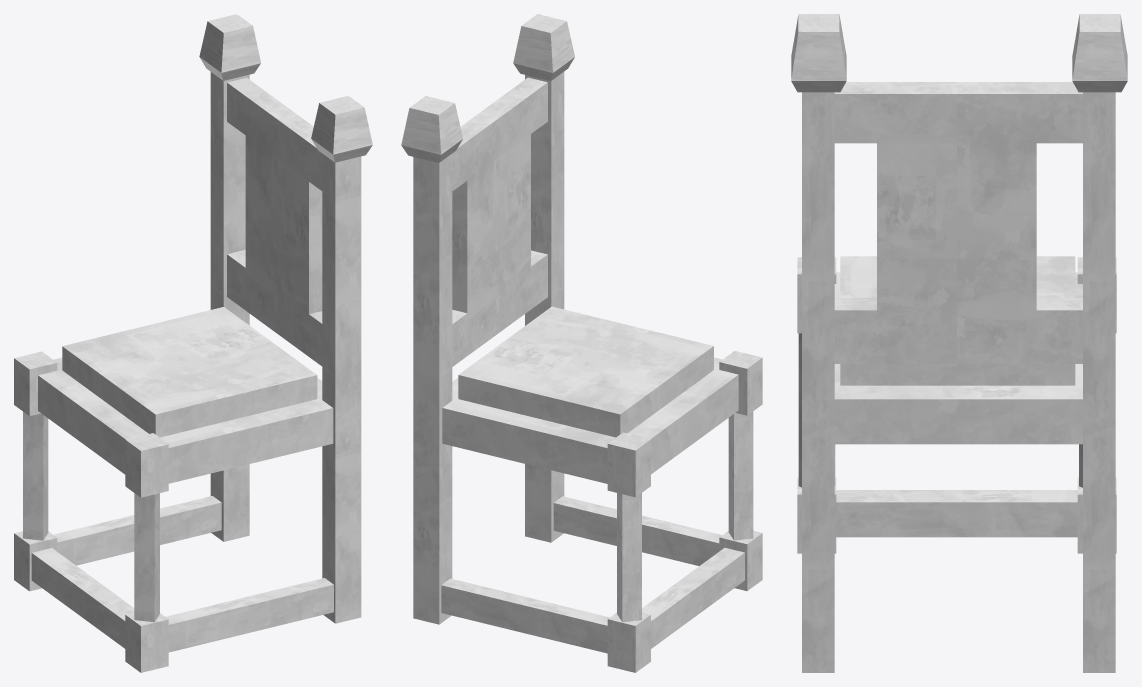
The model's file is Chair_01_break.fbx.
The picture shows the model from 3 angles, left to right: view 1: azimuth 30°, elevation 25°; view 2: azimuth 150°, elevation 25°; view 3: azimuth 270°, elevation 25°; orthographic projection. The views are drawn at different scales.
Visible parts, largest first — view 1: polySurface203, polySurface187, polySurface204, polySurface196, polySurface205, polySurface197, polySurface193, polySurface201, polySurface202, polySurface191, polySurface199, polySurface189 (+7 smaller); view 2: polySurface203, polySurface187, polySurface205, polySurface193, polySurface204, polySurface194, polySurface196, polySurface202, polySurface201, polySurface191, polySurface199, polySurface189 (+7 smaller); view 3: polySurface205, polySurface204, polySurface187, polySurface191, polySurface193, polySurface196, polySurface203, polySurface194, polySurface197, polySurface192, polySurface195, polySurface199 (+2 smaller).
Part boxes in pixels (left/top/right/bottom): polySurface203: left=62, top=307, right=317, bottom=437; polySurface187: left=38, top=357, right=333, bottom=483; polySurface204: left=277, top=114, right=322, bottom=366; polySurface196: left=322, top=153, right=361, bottom=421; polySurface205: left=227, top=77, right=296, bottom=333; polySurface197: left=322, top=415, right=361, bottom=623; polySurface193: left=210, top=72, right=249, bottom=325; polySurface201: left=165, top=578, right=333, bottom=652; polySurface202: left=53, top=496, right=221, bottom=565; polySurface191: left=31, top=548, right=134, bottom=648; polySurface199: left=134, top=493, right=159, bottom=622; polySurface189: left=23, top=412, right=48, bottom=540; polySurface203: left=458, top=306, right=713, bottom=437; polySurface187: left=442, top=357, right=738, bottom=483; polySurface205: left=452, top=113, right=499, bottom=366; polySurface193: left=413, top=154, right=452, bottom=421; polySurface204: left=480, top=77, right=547, bottom=332; polySurface194: left=413, top=416, right=452, bottom=624; polySurface196: left=525, top=72, right=564, bottom=325; polySurface202: left=441, top=578, right=609, bottom=653; polySurface201: left=553, top=496, right=721, bottom=565; polySurface191: left=642, top=547, right=744, bottom=648; polySurface199: left=728, top=411, right=753, bottom=540; polySurface189: left=617, top=493, right=641, bottom=622; polySurface205: left=957, top=82, right=1082, bottom=363; polySurface204: left=834, top=82, right=956, bottom=363; polySurface187: left=834, top=272, right=1082, bottom=444; polySurface191: left=836, top=490, right=1077, bottom=537; polySurface193: left=1083, top=92, right=1115, bottom=418; polySurface196: left=802, top=92, right=834, bottom=418; polySurface203: left=840, top=256, right=1075, bottom=385; polySurface194: left=1083, top=418, right=1115, bottom=672; polySurface197: left=802, top=418, right=834, bottom=672; polySurface192: left=1072, top=14, right=1127, bottom=92; polySurface195: left=791, top=14, right=846, bottom=92; polySurface199: left=798, top=333, right=835, bottom=487.
Size of the model in its own units: 1.07 by 2.28 by 1.08.
